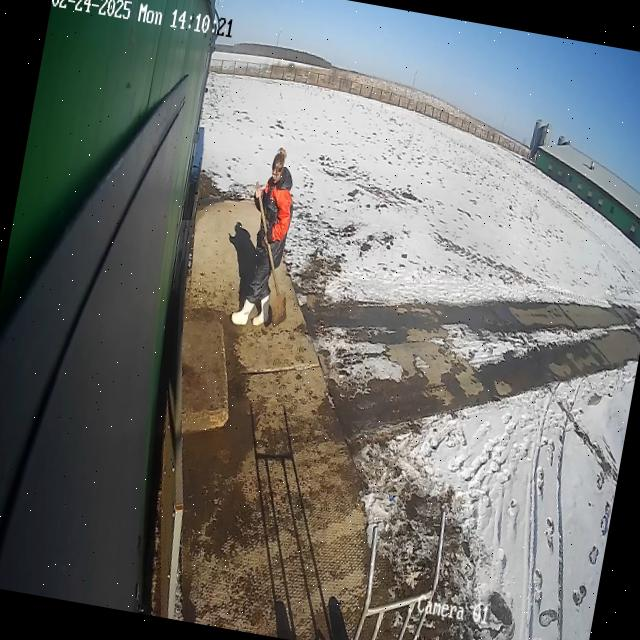Red uniform: (227, 143, 304, 334)
